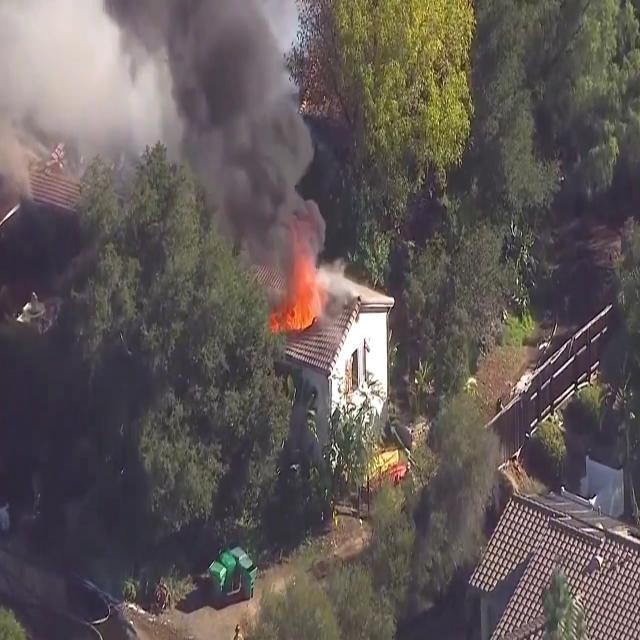Fire: (272, 276, 324, 336)
Smoke: (123, 0, 330, 281), (0, 0, 158, 192)
